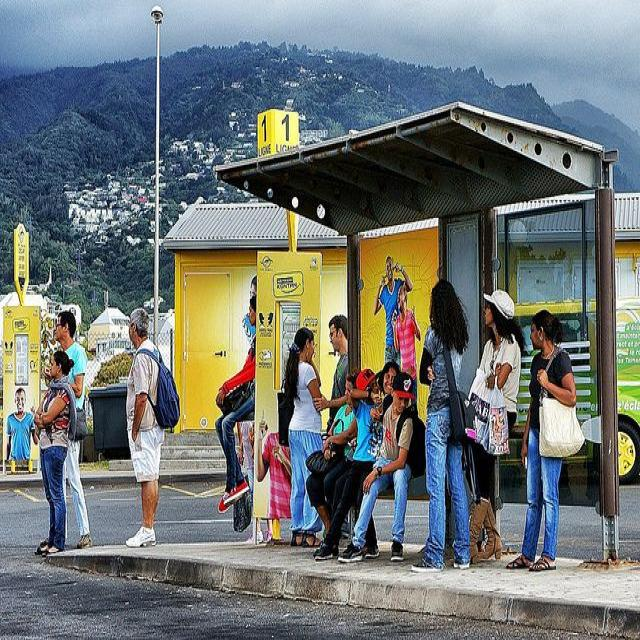body: (409, 274, 480, 577), (504, 304, 578, 576), (465, 286, 526, 564), (119, 304, 183, 550), (336, 370, 417, 564), (312, 366, 383, 562), (303, 366, 365, 553), (52, 309, 95, 552), (213, 295, 259, 517), (31, 348, 79, 559), (280, 326, 325, 549), (233, 404, 297, 548), (371, 252, 422, 415), (0, 373, 45, 489), (312, 312, 350, 438), (241, 274, 260, 345), (377, 360, 401, 396)
